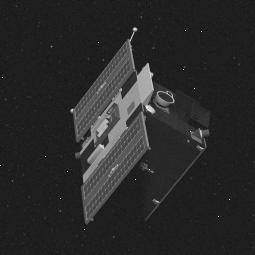proba_2: (73, 24, 210, 232)
